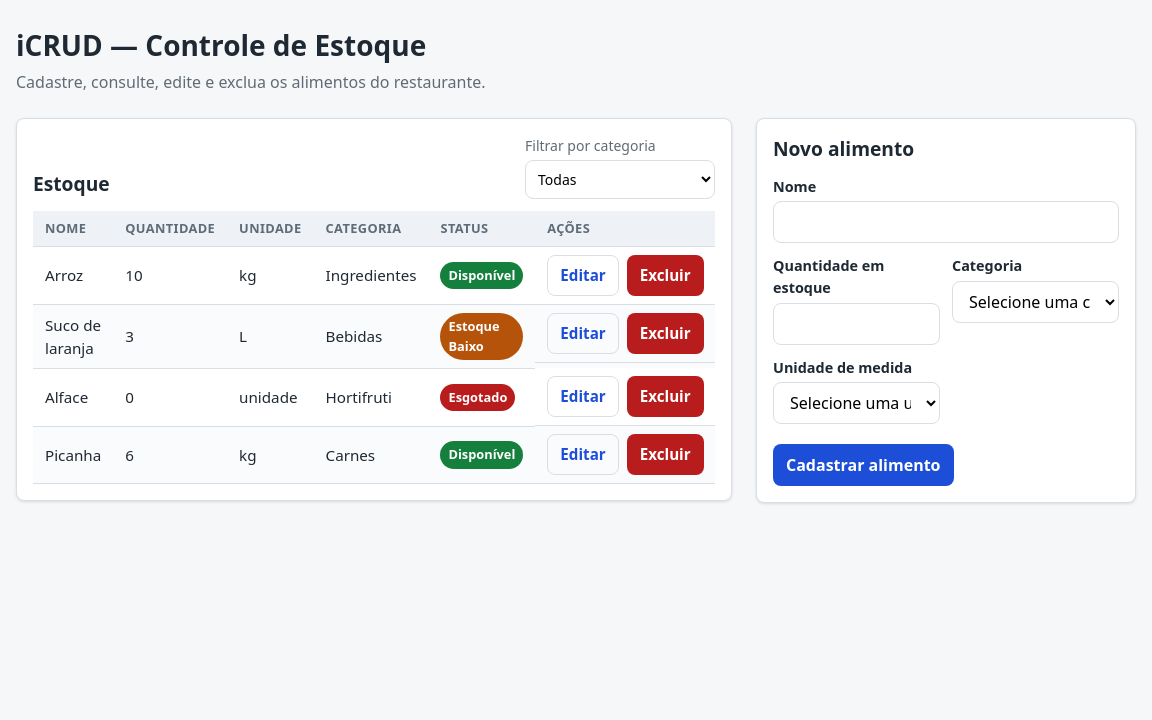
Test case: US1 — create food › posts trimmed values and resets the form on success
Expected: the text "Arroz" is shown, [33,247,113,305]
Type "  Suco de laranja  " into the field labelled "Nome" at {"x": 946, "y": 222}, box [773,201,1119,243]
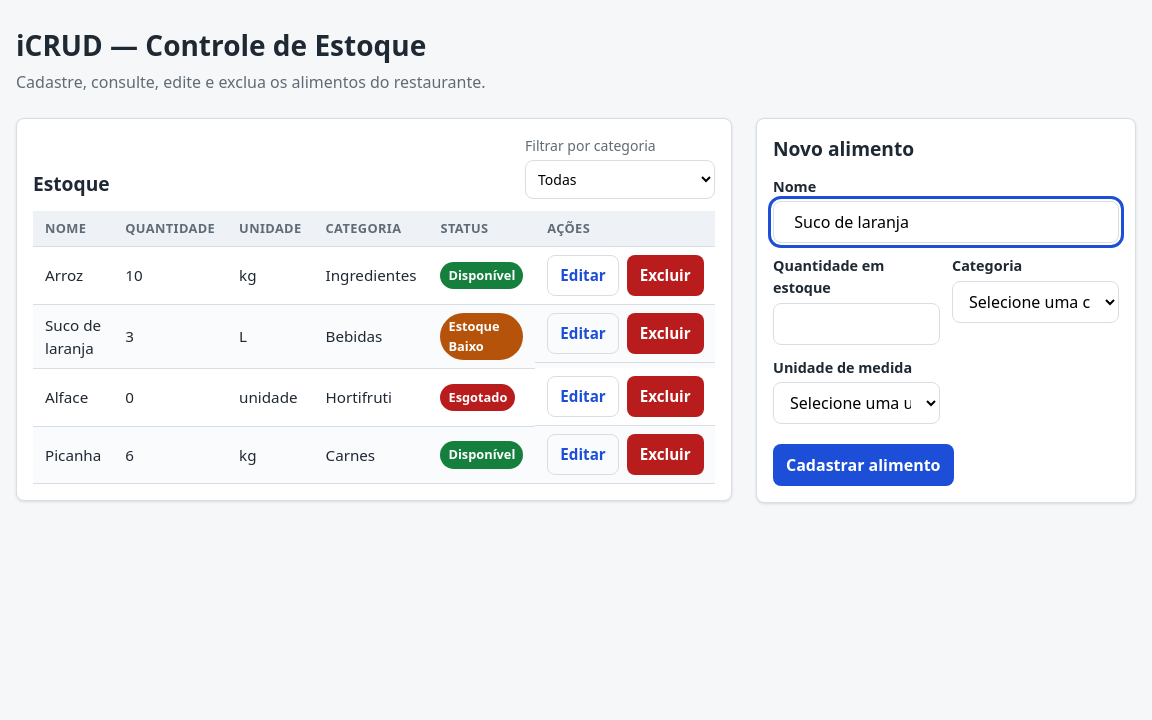
Type "12.5" into the number field labelled "Quantidade em estoque" at {"x": 856, "y": 324}, box [773,303,940,345]
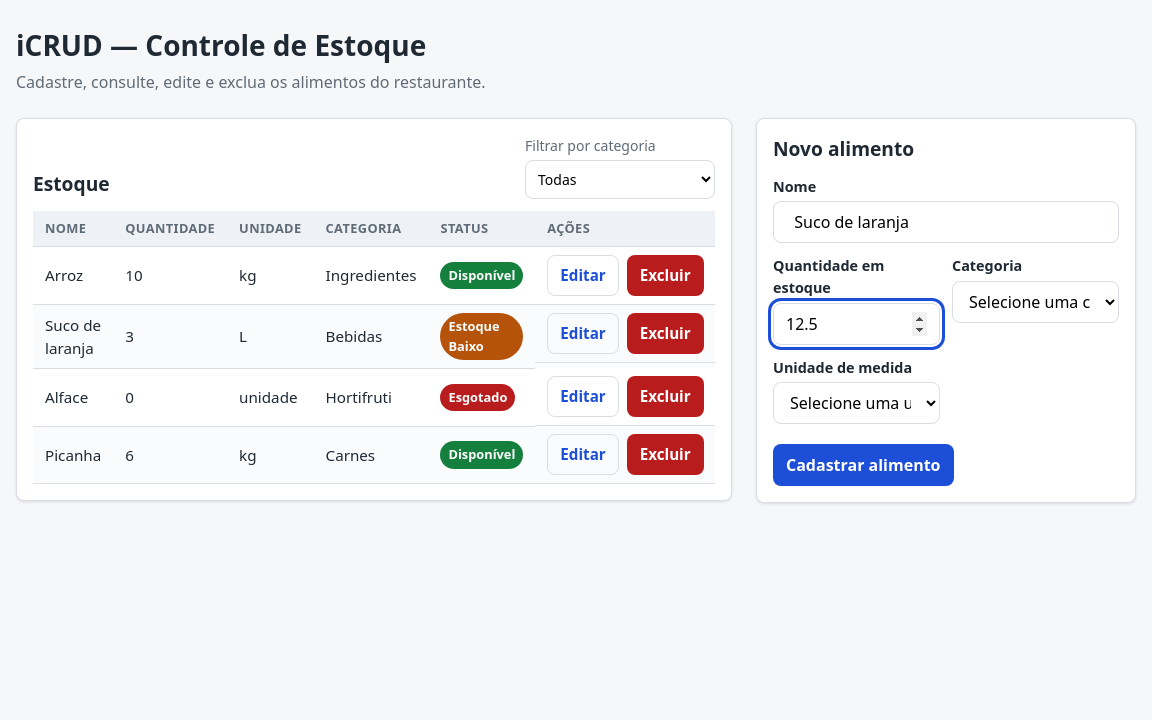
Select "Bebidas" in the dropdown labelled "Categoria" at {"x": 1036, "y": 302}, box [952,281,1119,323]
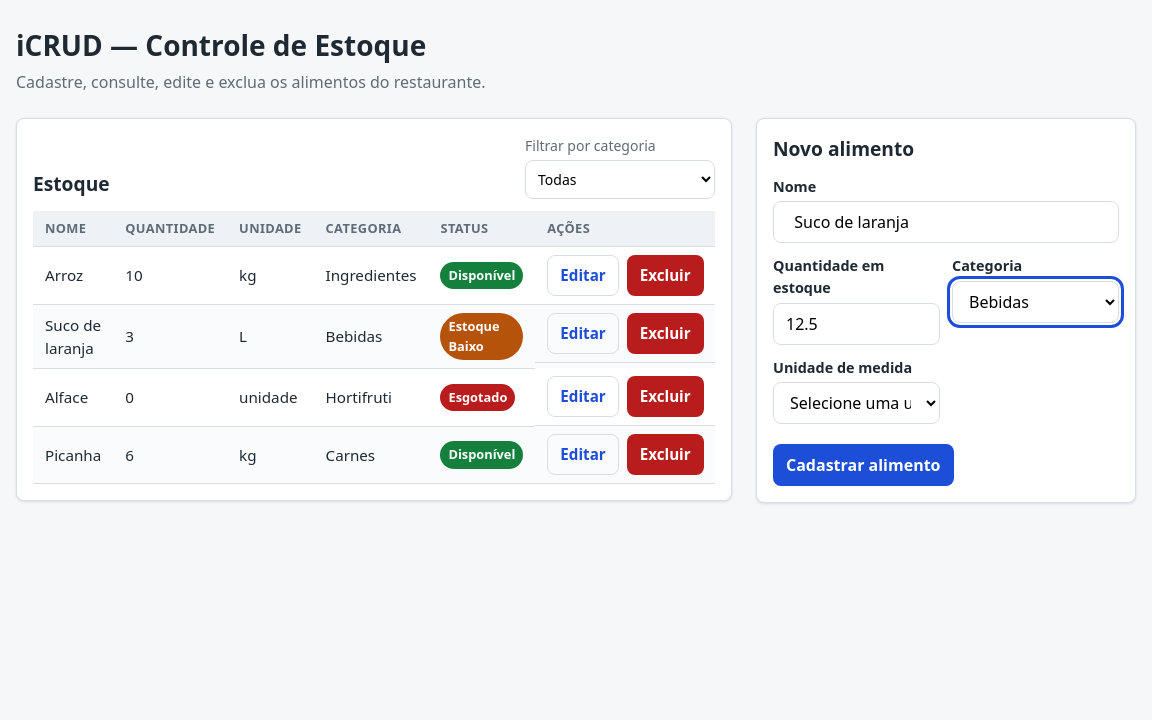
Select "L" in the dropdown labelled "Unidade de medida" at {"x": 856, "y": 403}, box [773,382,940,424]
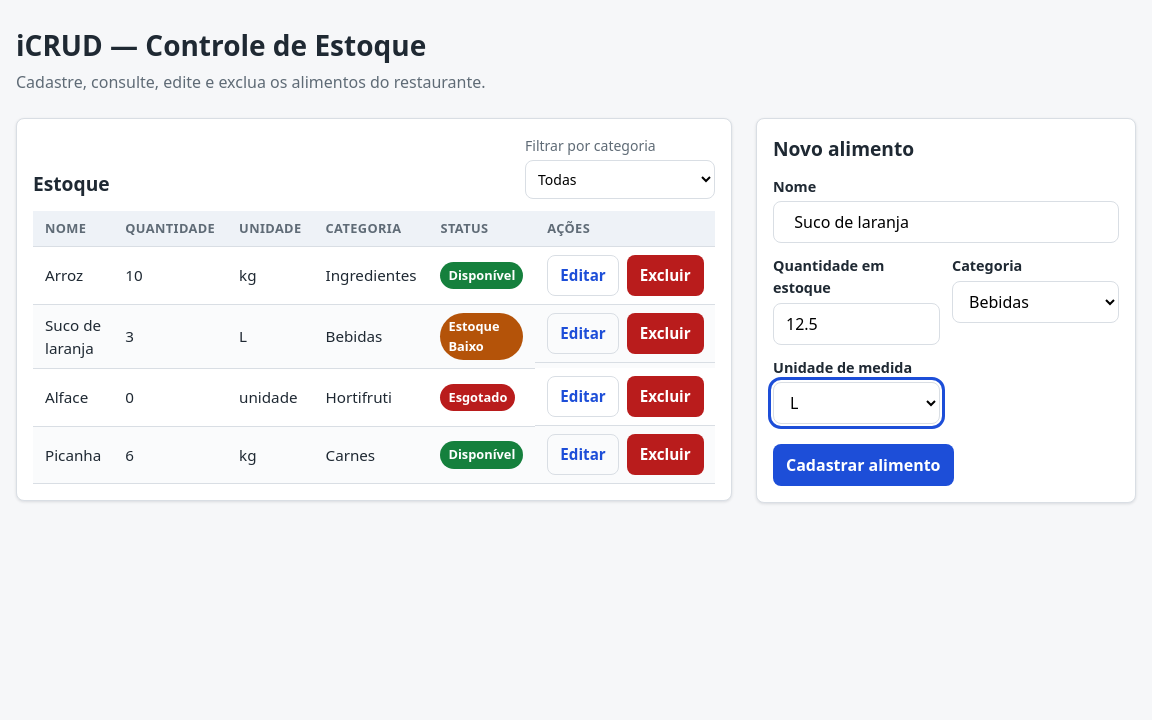
Click the button "Cadastrar alimento" at {"x": 863, "y": 465}, box [773,444,954,486]
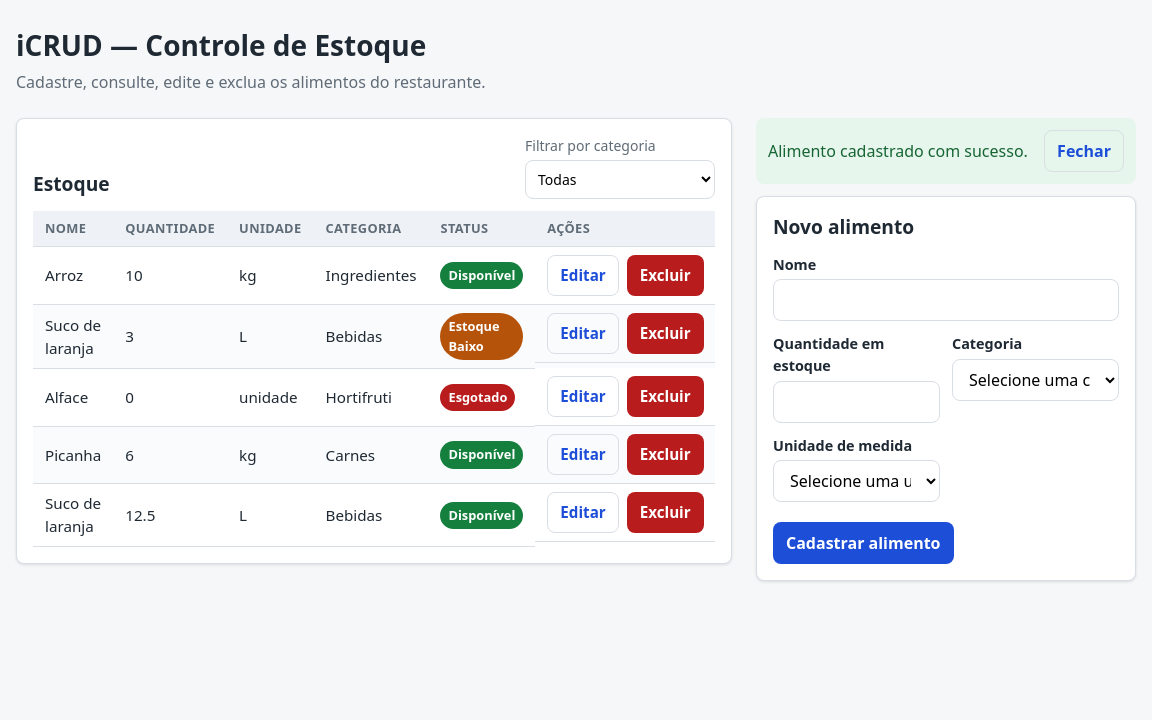
Now the text "Alimento cadastrado com sucesso." is shown, box [768,139,1028,163]
Now the field labelled "Nome" is empty, box [773,279,1119,321]
Now the number field labelled "Quantidade em estoque" is not empty, box [773,381,940,423]
